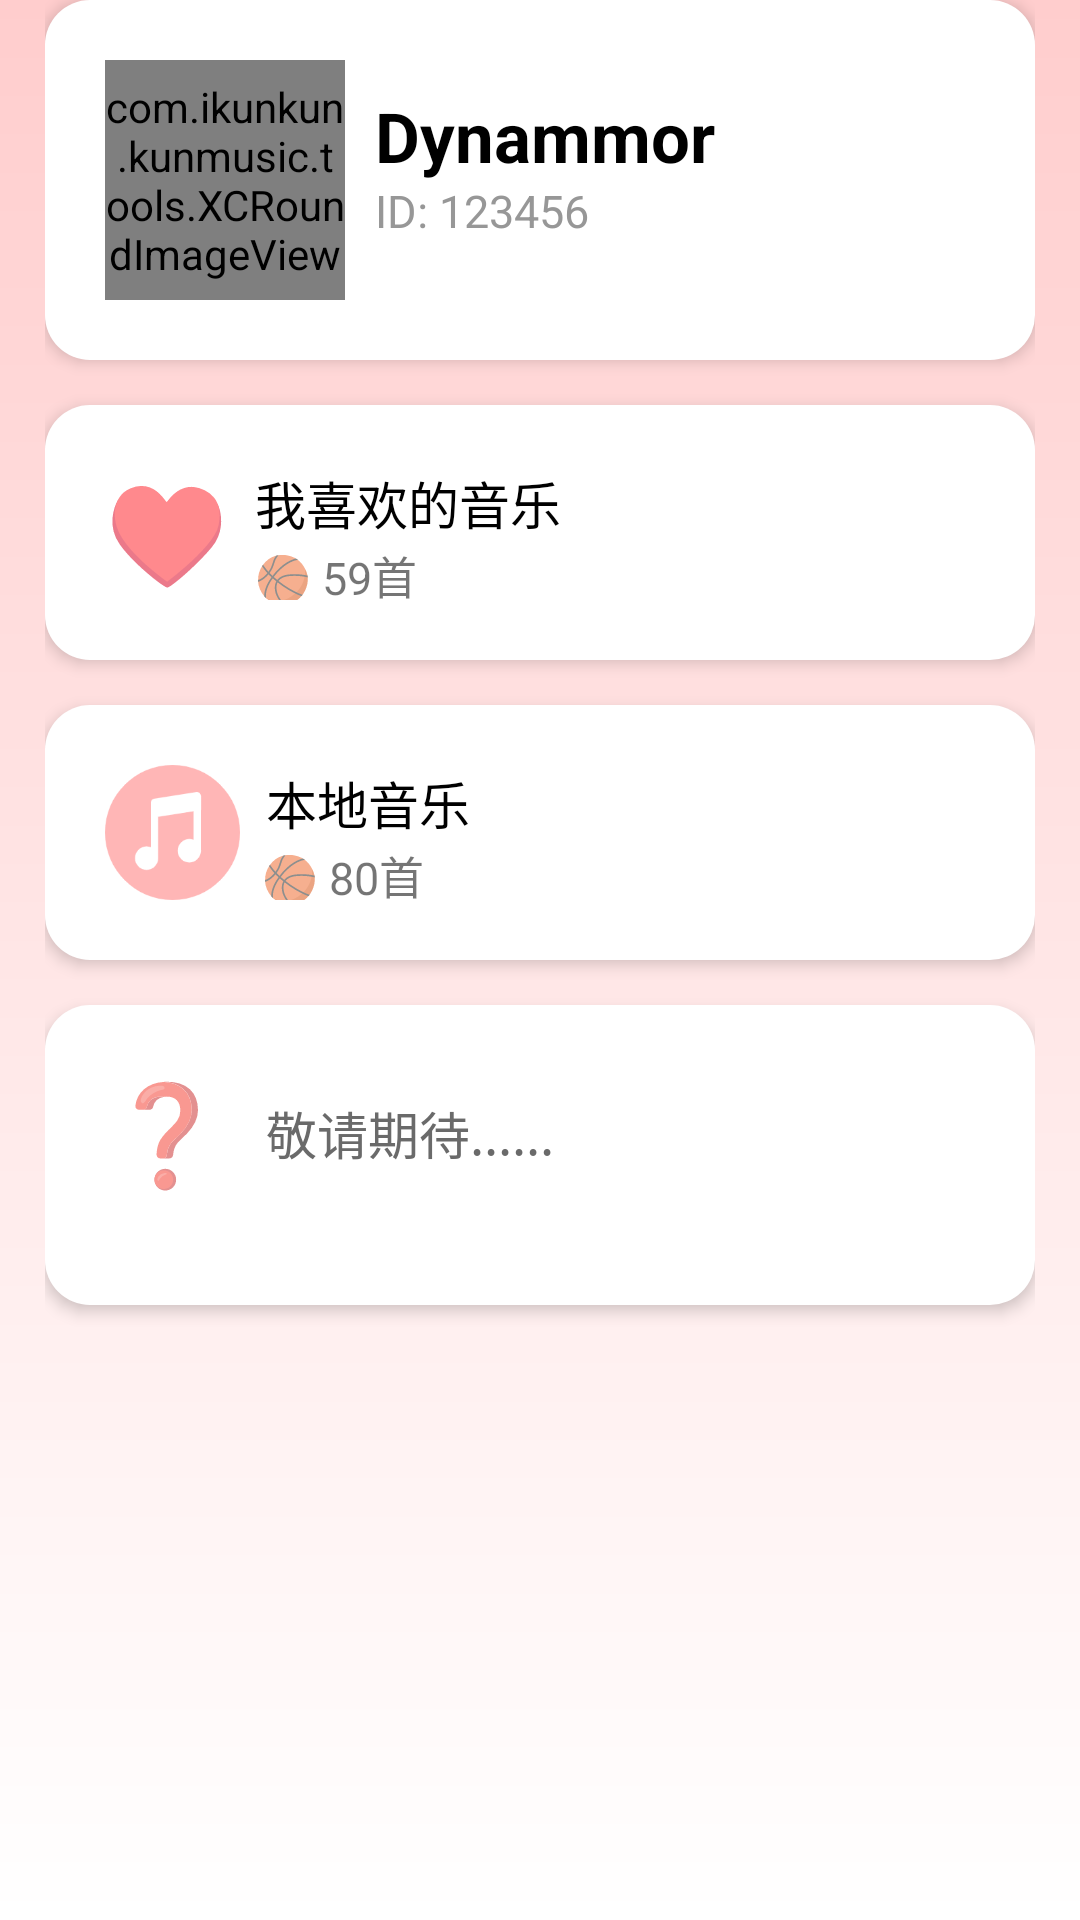

Where icons sit on this 1080 x 1920 app screen, as (x1, y1, x2, y2):
music: (105, 765, 240, 900)
